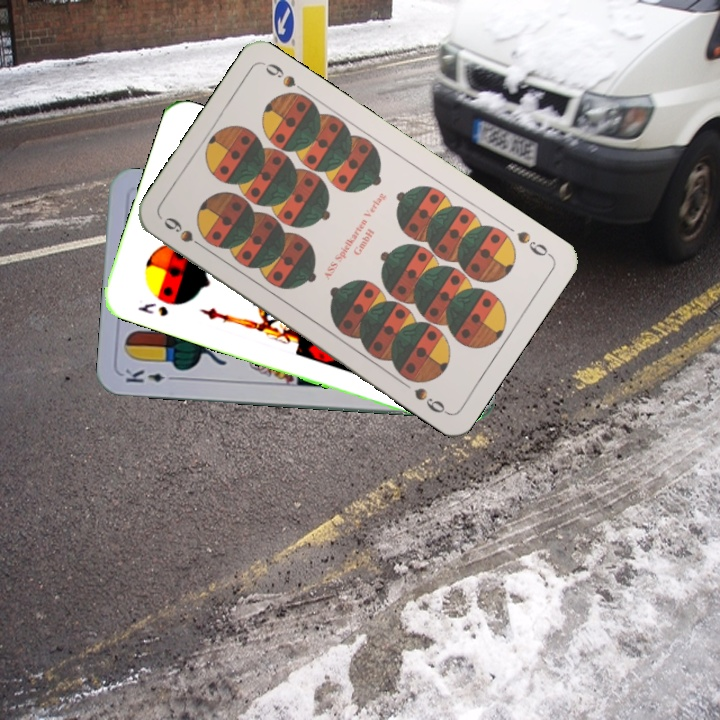EK: (121, 365, 180, 385)
S9: (159, 212, 210, 253), (512, 226, 555, 260)
SK: (133, 299, 171, 319)
